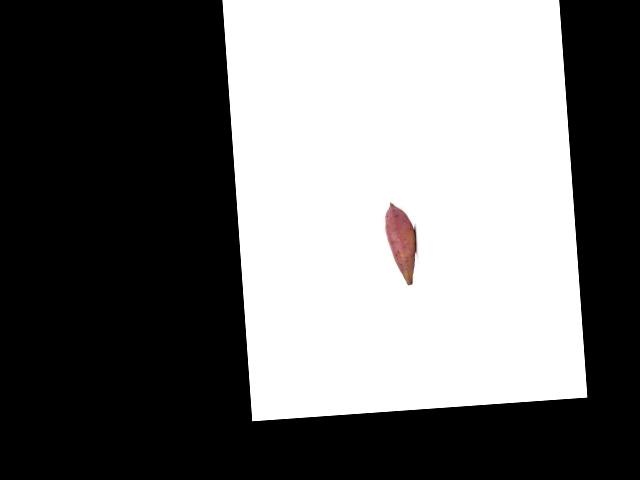sweet_potato: (383, 200, 417, 286)
